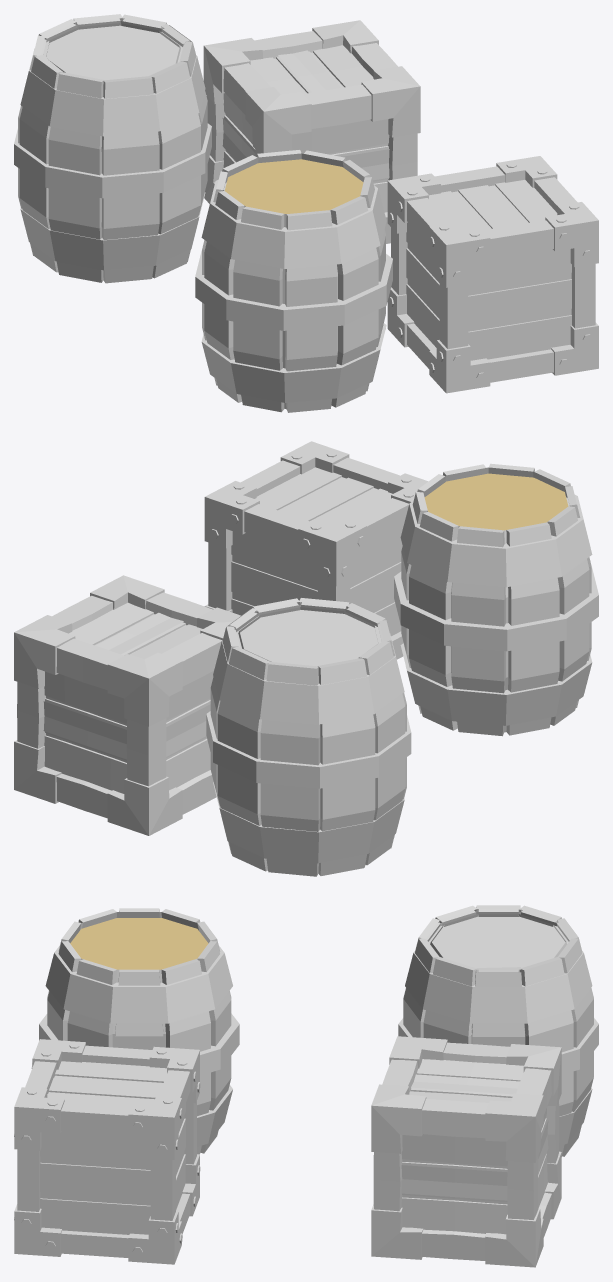
File: Box n Barrel.fbx
3 views of the same model, one above another, from view 1: azimuth 30°, elevation 25°; view 2: azimuth 150°, elevation 25°; view 3: azimuth 270°, elevation 25° (orthographic). The views are drawn at different scales.
Visible parts, largest first — view 1: Circle.005, Circle.006, Circle.014, Circle.012, Circle.004, Cube.021, Cube.020, Cube.019, Circle.013, Cube.025, Cube.022, Circle.002; view 2: Circle.006, Circle.005, Circle.014, Circle.012, Circle.004, Cube.021, Cube.019, Cube.020, Circle.013, Cube.025, Circle.002, Cube.022; view 3: Circle.006, Circle.005, Cube.021, Circle.014, Cube.020, Cube.019, Circle.012, Circle.004, Circle.013, Cube.025, Cube.022, Circle.002.
Boxes of the visible parts, x1,y1,x2,y2 form: Circle.005: (18,14,207,283); Circle.006: (203,20,420,243); Circle.014: (202,150,385,412); Circle.012: (195,180,392,402); Circle.004: (14,48,211,270); Cube.021: (406,180,571,360); Cube.020: (387,156,598,393); Cube.019: (391,166,595,382); Circle.013: (224,159,363,213); Cube.025: (407,185,571,331); Cube.022: (389,163,592,381); Circle.002: (41,18,184,61); Circle.006: (14,575,240,835); Circle.005: (210,598,406,876); Circle.014: (401,463,591,736); Circle.012: (394,495,598,725); Circle.004: (206,633,411,863); Cube.021: (231,467,402,636); Cube.019: (208,457,409,659); Cube.020: (204,441,428,612); Circle.013: (424,473,568,530); Cube.025: (232,477,401,612); Circle.002: (235,602,383,647); Cube.022: (209,452,413,577); Circle.006: (371,1036,561,1267); Circle.005: (403,905,593,1156); Cube.021: (40,1061,185,1234); Circle.014: (47,908,231,1154); Cube.020: (14,1039,199,1264); Cube.019: (17,1045,196,1257); Circle.012: (39,945,239,1146); Circle.004: (398,950,598,1145); Circle.013: (70,918,208,969); Cube.025: (40,1075,184,1205); Cube.022: (14,1043,200,1255); Circle.002: (426,909,571,972).
Bounding box in the file's own units: 20.62 × 11.49 × 30.15.
